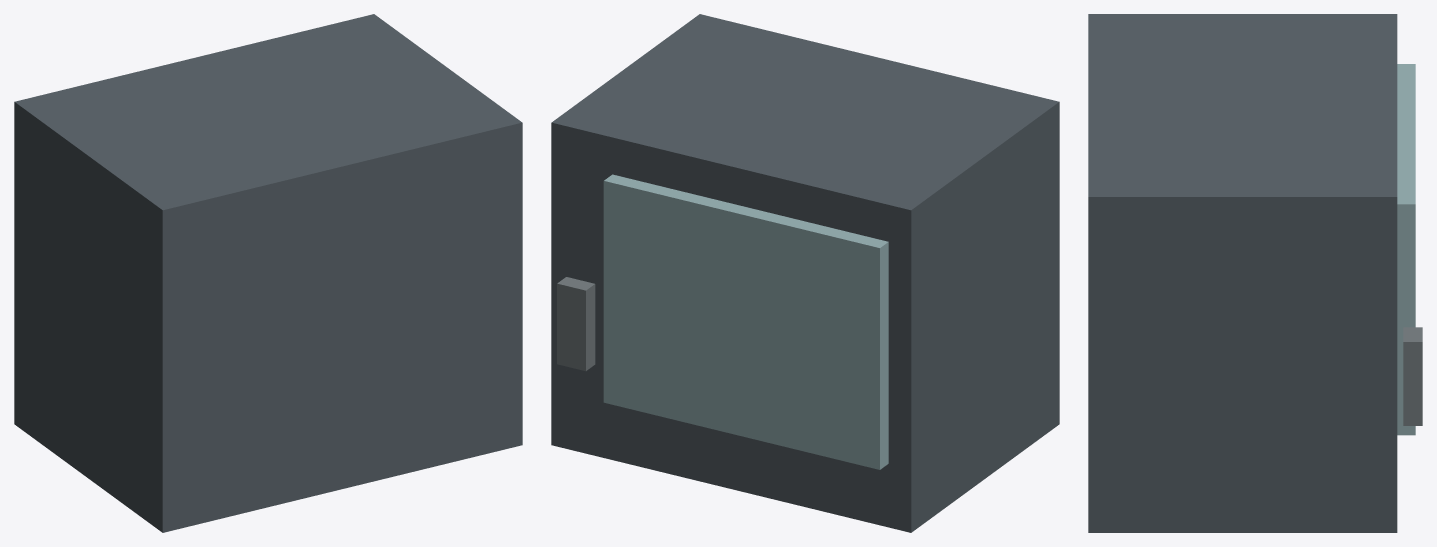
File: television_crt.glb
3 views of the same model, side by side, from view 1: azimuth 30°, elevation 25°; view 2: azimuth 150°, elevation 25°; view 3: azimuth 270°, elevation 25° (orthographic). The views are drawn at different scales.
Parts seen in each view (by area): view 1: body; view 2: body; view 3: body.
Part boxes in pixels (<box>): body: <box>14,14,522,532</box>; body: <box>551,14,1059,532</box>; body: <box>1088,14,1422,532</box>.
Size of the model in its own units: 0.56 by 0.48 by 0.4325.
